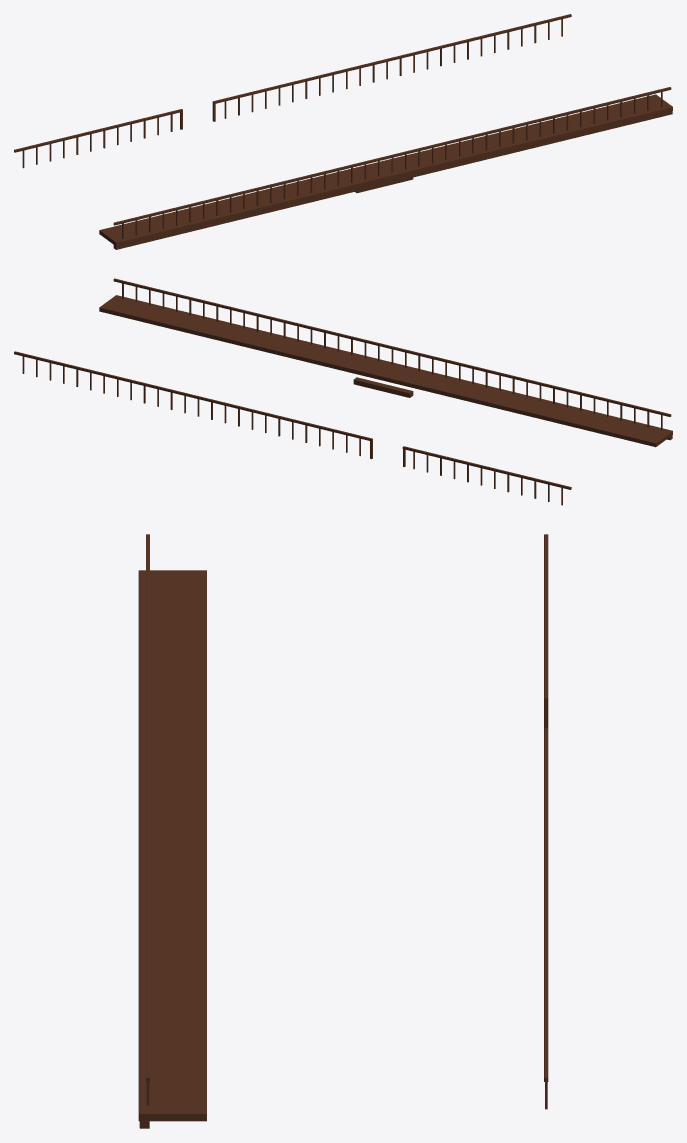
The model's file is JW_Hacienda_V7_RailingFix.fbx.
3 renders of one model, top to bottom at view 1: azimuth 30°, elevation 25°; view 2: azimuth 150°, elevation 25°; view 3: azimuth 270°, elevation 25°, orthographic. The views are drawn at different scales.
Visible parts, largest first — view 1: EXP_ExteriorBalcony_RailingFix; view 2: EXP_ExteriorBalcony_RailingFix; view 3: EXP_ExteriorBalcony_RailingFix.
Part boxes in pixels (left/top/right/bottom): EXP_ExteriorBalcony_RailingFix: left=14, top=14, right=672, bottom=249; EXP_ExteriorBalcony_RailingFix: left=14, top=278, right=672, bottom=505; EXP_ExteriorBalcony_RailingFix: left=138, top=534, right=548, bottom=1128.
Size of the model in its own units: 3100 by 988 by 196.
